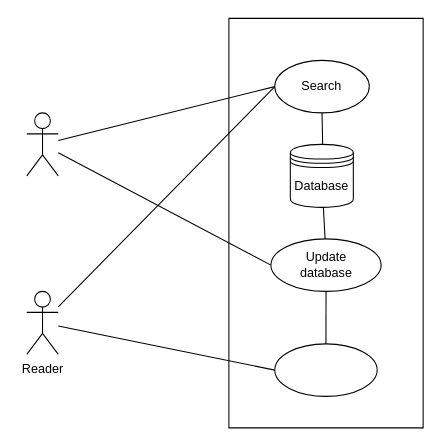
Some shapes in this 442 by 446 pixel diagram are drawn without their labels. Here are the shapes that lost their labels. From the top down, the box of each, then its label:
(26, 112, 58, 176): Librarian
(274, 343, 377, 396): Borrow/Return
